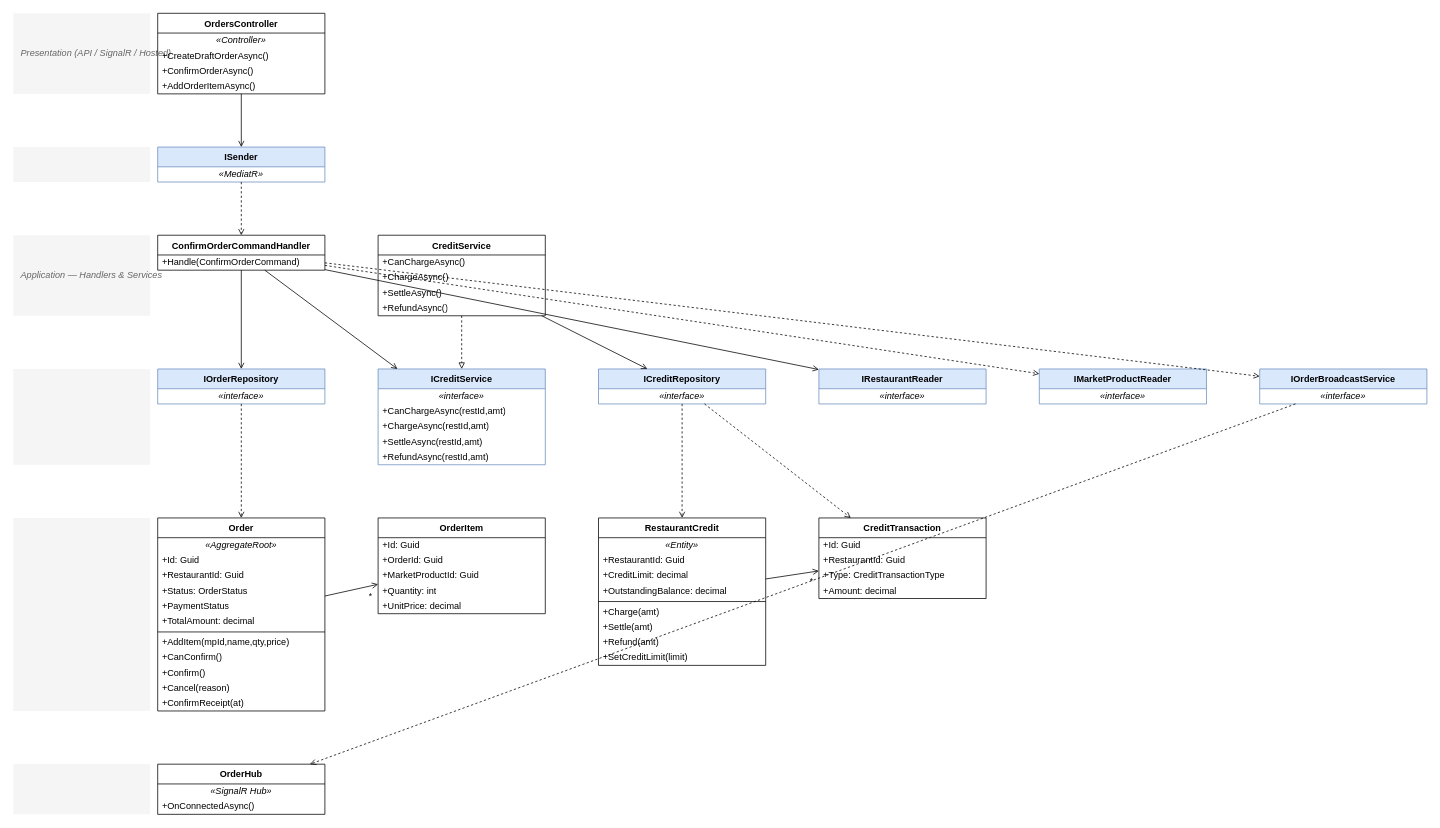
This 1440x828 diagram has some shape labels left out. Here are the shapes that lost their labels. From the top down, the centre of each, then its label:
pixel 81 164: Mediator
pixel 81 416: Application — Abstractions (interfaces)
pixel 81 614: Domain
pixel 81 789: Infrastructure — Implementations
